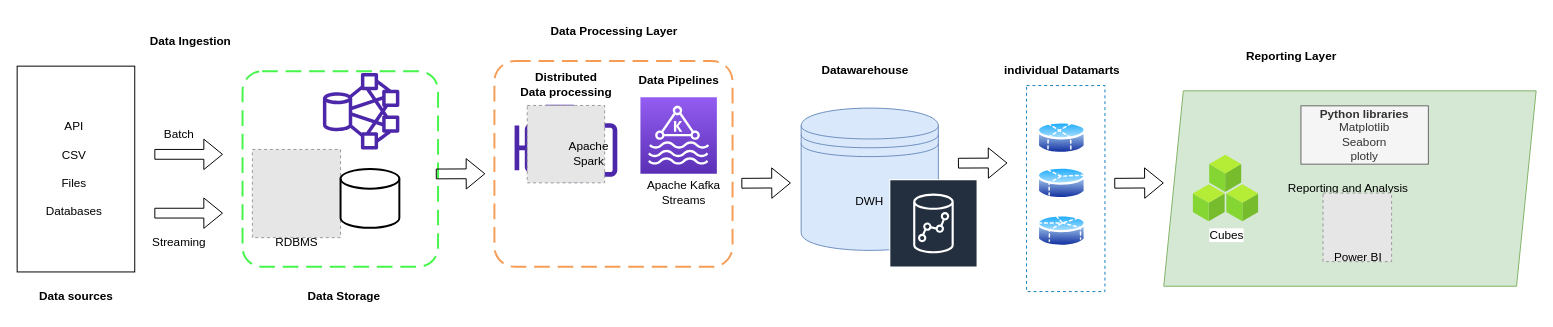
Some shapes in this 1553 by 327 pixel diagram are drawn without their labels. Grey dashed boxes stand in for pictures. The shapes that lost their labels are listed below. From the top down, each one's centre as x and y in pixels, then its label:
(x=360, y=111): HDFS
(x=369, y=198): NOSQL
(x=933, y=230): Amazon Redshift
